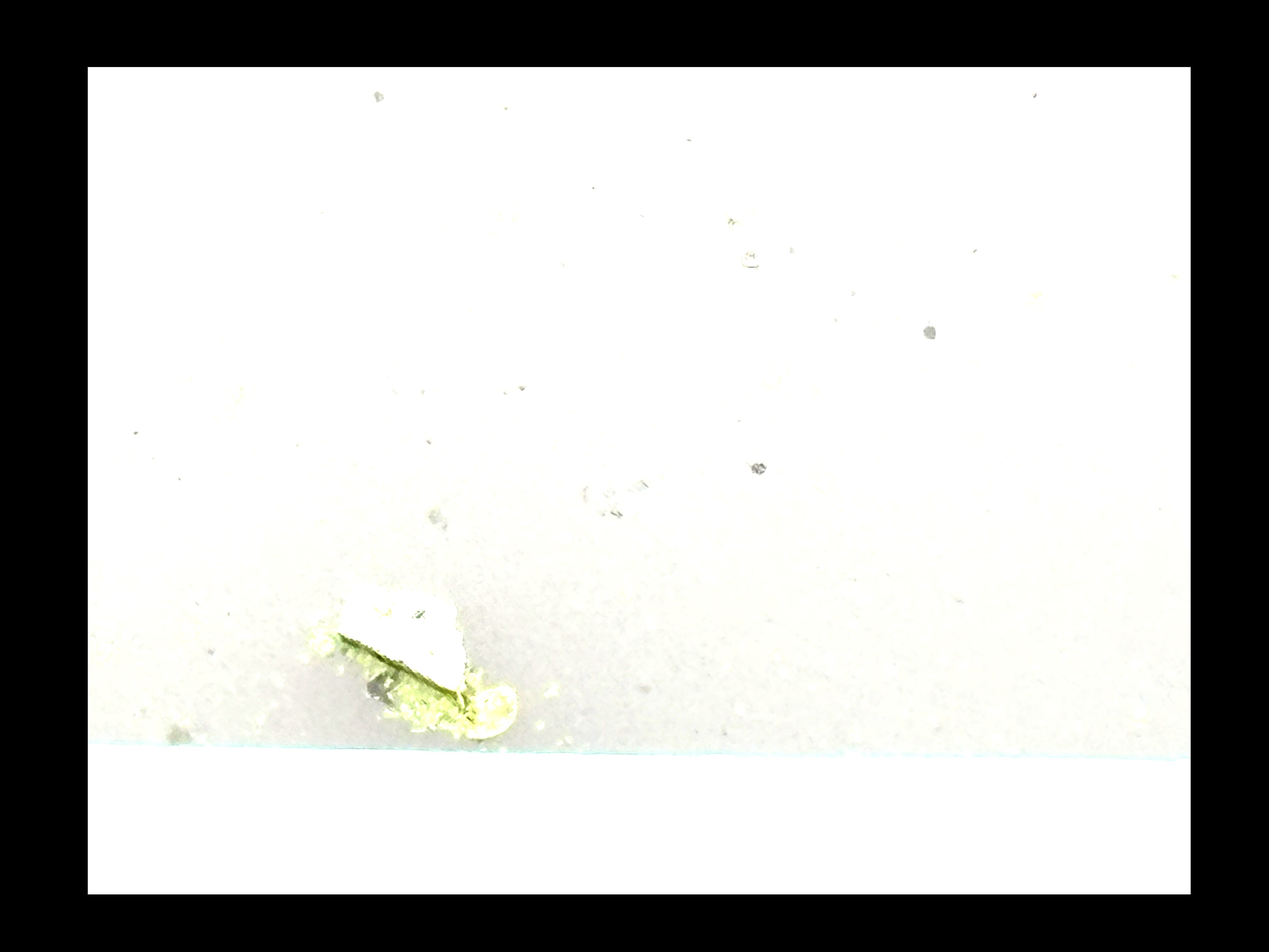Plastic wastes: (332, 579, 474, 704)
